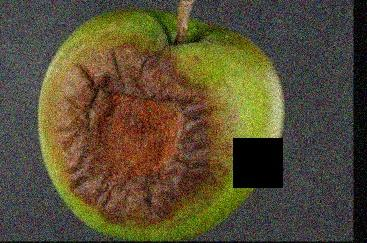rotten apple: (35, 5, 288, 241)
